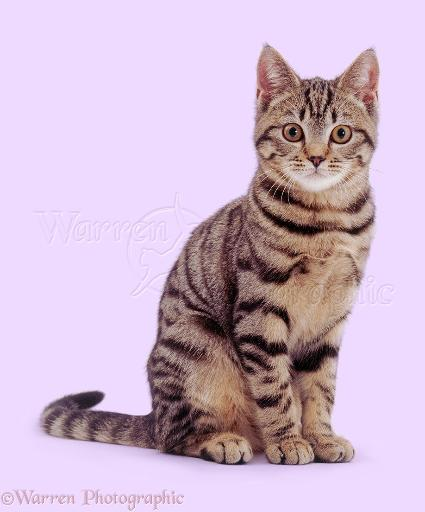cat_sitting: (41, 45, 380, 464)
